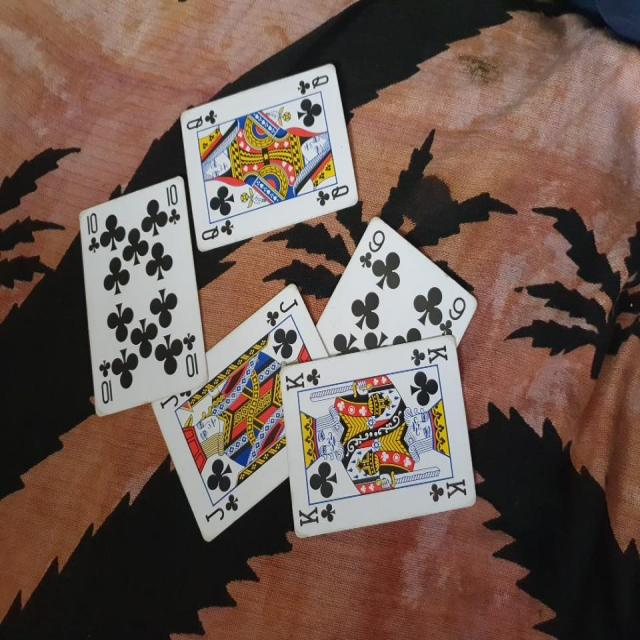10 Trefoils: (75, 174, 210, 417)
9 Trefoils: (314, 213, 478, 354)
J Trefoils: (153, 279, 332, 544)
K Trefoils: (275, 332, 479, 540)
Q Trefoils: (179, 58, 358, 253)
